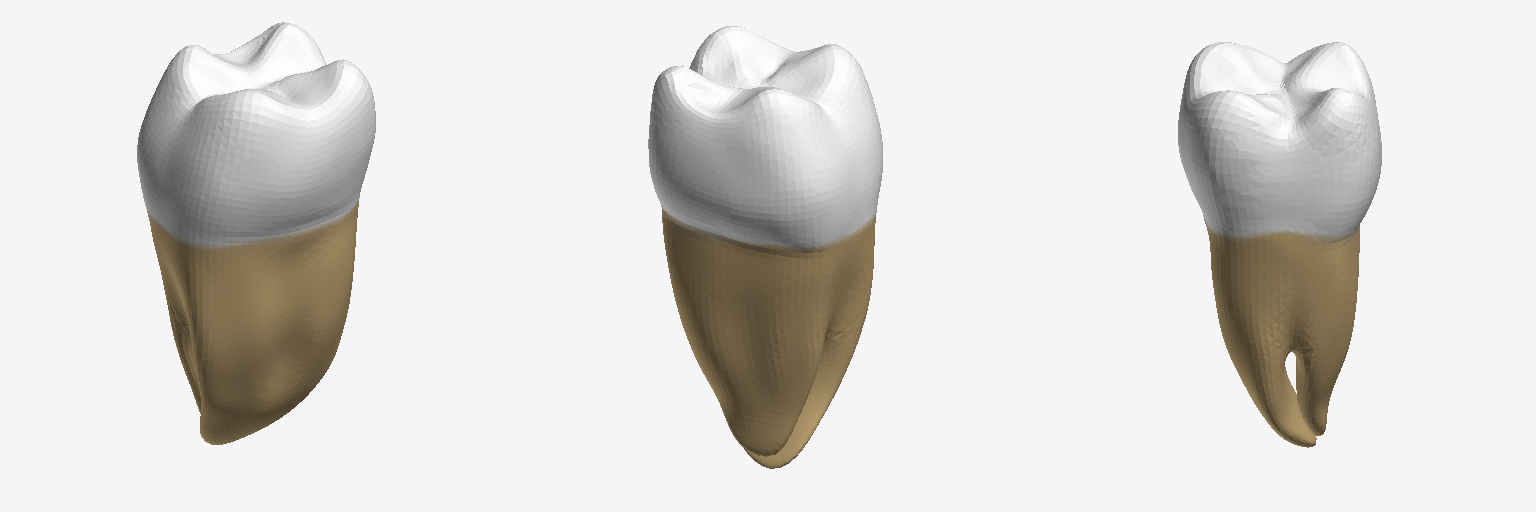
3 views of the same model, side by side, from view 1: azimuth 30°, elevation 25°; view 2: azimuth 150°, elevation 25°; view 3: azimuth 270°, elevation 25° (orthographic).
Visible parts, largest first — view 1: outer; view 2: outer; view 3: outer.
Part boxes in pixels (bbox=[...]): outer: bbox=[137, 22, 375, 444]; outer: bbox=[648, 26, 882, 468]; outer: bbox=[1178, 42, 1381, 447].
Bounding box in the file's own units: 3.74 × 7.51 × 3.55.
Materials: 2 (1 with a texture image).